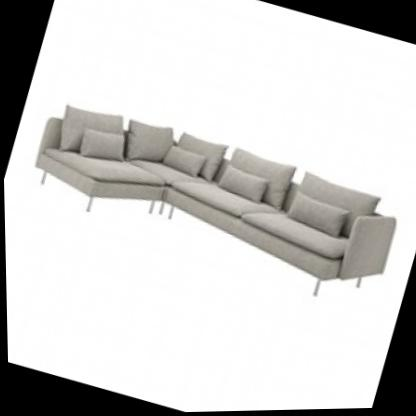Sofa: (7, 56, 416, 329)
